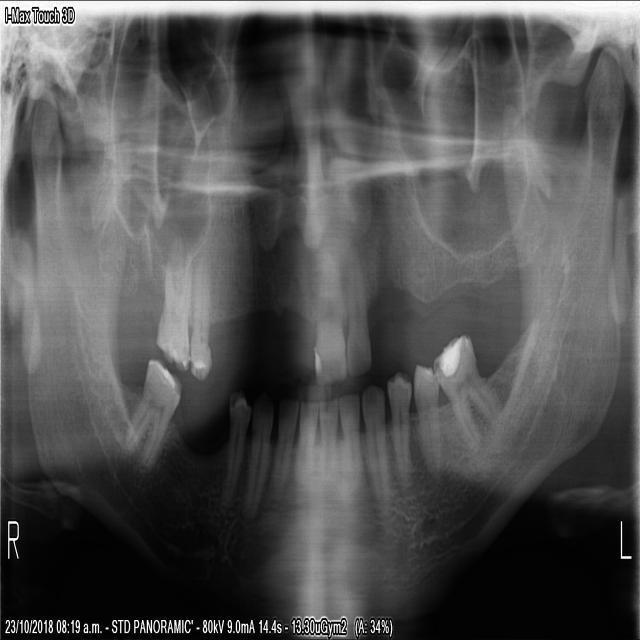LCD: (361, 378, 392, 522)
LID: (336, 393, 360, 494), (315, 395, 336, 486)
LIU: (312, 231, 348, 384), (343, 236, 374, 379)
LMD: (436, 327, 507, 456)
LPMD: (384, 367, 413, 494), (412, 365, 442, 476)
RCD: (239, 386, 274, 518)
RID: (263, 389, 298, 500), (291, 392, 319, 503)
RMD: (117, 346, 188, 486)
RMU: (152, 225, 193, 375)
RPMD: (217, 387, 251, 512)
RPMU: (187, 240, 213, 386)
